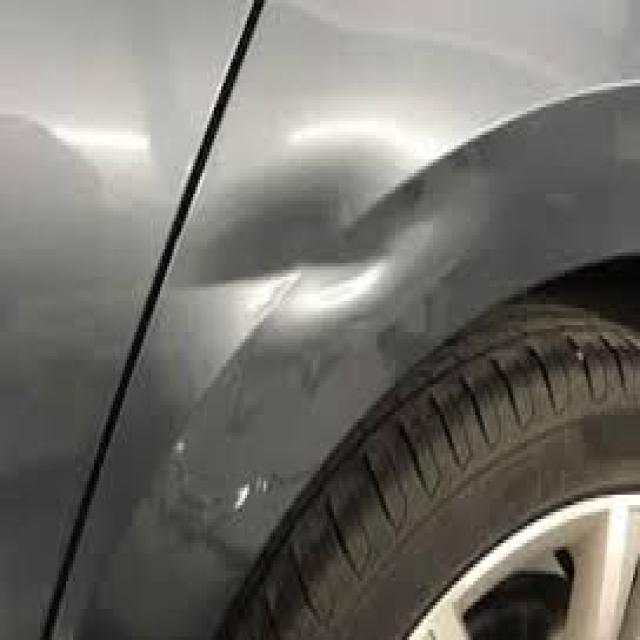Dent: (147, 207, 439, 383)
